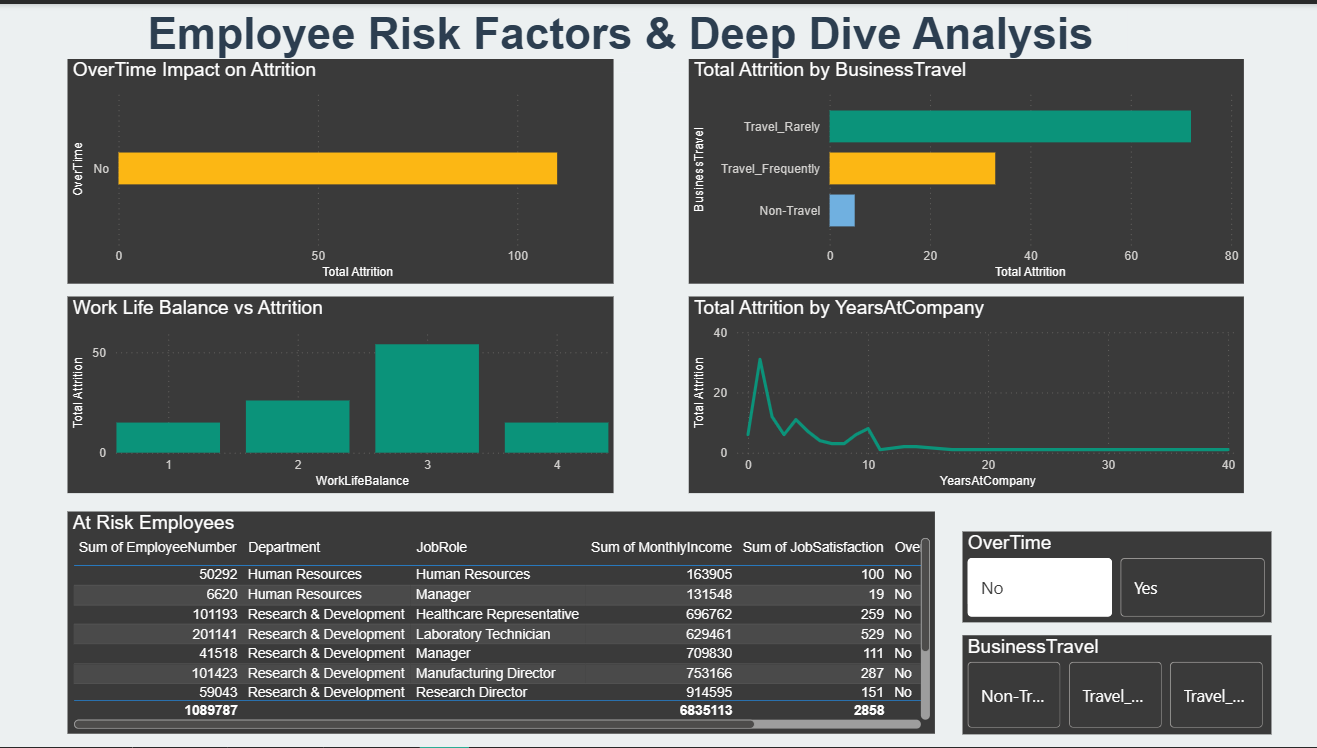

This screenshot's page, from the dashboard's own definition file:
{"tool":"powerbi","page":{"name":"Page 3","canvas":[1280,720],"ordinal":2},"visuals":[{"type":"textbox","box":[138,0,953.9,66.6],"z":0},{"type":"clusteredBarChart","title":"OverTime Impact on Attrition","fields":{"Y":["Employee.Total Attrition"],"Category":["Employee.OverTime"]},"box":[65.4,53.3,529,217.9],"z":1},{"type":"clusteredBarChart","fields":{"Category":["Employee.BusinessTravel"],"Y":["Employee.Total Attrition"]},"box":[667,53.3,537.5,217.9],"z":2},{"type":"lineChart","fields":{"Category":["Employee.YearsAtCompany"],"Y":["Employee.Total Attrition"]},"box":[667,283.3,537.5,190],"z":3},{"type":"clusteredColumnChart","title":"Work Life Balance vs Attrition","fields":{"Category":["Employee.WorkLifeBalance"],"Y":["Employee.Total Attrition"]},"box":[65.4,283.3,529,190],"z":4},{"type":"tableEx","title":"At Risk Employees","fields":{"Values":["Sum(Employee.EmployeeNumber)","Employee.Department","Employee.JobRole","Sum(Employee.MonthlyIncome)","Sum(Employee.JobSatisfaction)","Employee.OverTime","Sum(Employee.YearsAtCompany)"]},"box":[65.4,491.5,840.1,215.5],"z":5},{"type":"advancedSlicerVisual","fields":{"Values":["Employee.BusinessTravel"]},"box":[932.1,611.3,299,95.6],"z":7},{"type":"advancedSlicerVisual","fields":{"Values":["Employee.OverTime"]},"box":[932.1,510.8,299,88.4],"z":8}]}

Visuals, with their boxes in screenshot pixels (x1, y1, x2, y2), scaled from the page's 1280x720 canvas onto the 1317x748 screenshot:
textbox: x1=142 y1=0 x2=1123 y2=69
"OverTime Impact on Attrition" clusteredBarChart: x1=67 y1=55 x2=612 y2=282
clusteredBarChart - Employee.BusinessTravel x Employee.Total Attrition: x1=686 y1=55 x2=1239 y2=282
lineChart - Employee.YearsAtCompany x Employee.Total Attrition: x1=686 y1=294 x2=1239 y2=492
"Work Life Balance vs Attrition" clusteredColumnChart: x1=67 y1=294 x2=612 y2=492
"At Risk Employees" tableEx: x1=67 y1=511 x2=932 y2=734
advancedSlicerVisual - Employee.BusinessTravel: x1=959 y1=635 x2=1267 y2=734
advancedSlicerVisual - Employee.OverTime: x1=959 y1=531 x2=1267 y2=623
